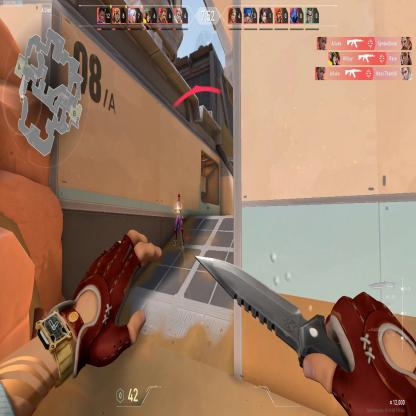enemy: (172, 192, 185, 248)
